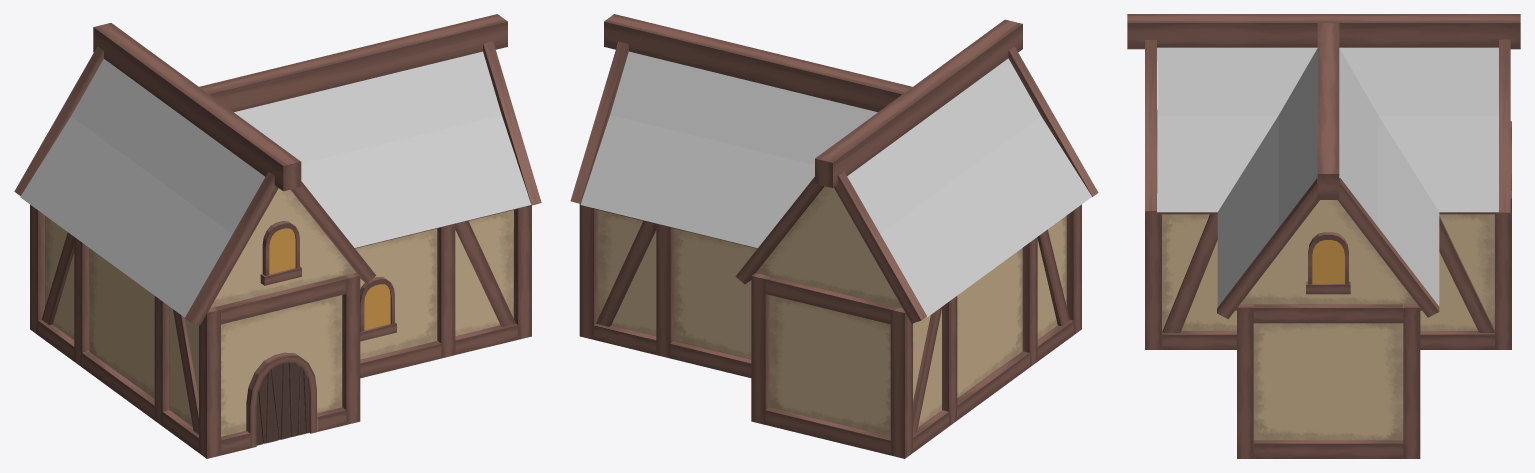
The model's file is Medieval House Design_01.fbx.
3 views of the same model, side by side, from view 1: azimuth 30°, elevation 25°; view 2: azimuth 150°, elevation 25°; view 3: azimuth 270°, elevation 25° (orthographic). The views are drawn at different scales.
Visible parts, largest first — view 1: Cube.177; view 2: Cube.177; view 3: Cube.177.
Part boxes in pixels (box(x1,y1,x2,y2)): Cube.177: box(14, 14, 541, 458); Cube.177: box(570, 14, 1098, 458); Cube.177: box(1127, 14, 1520, 458).
Size of the model in its own units: 640 by 431 by 526.
